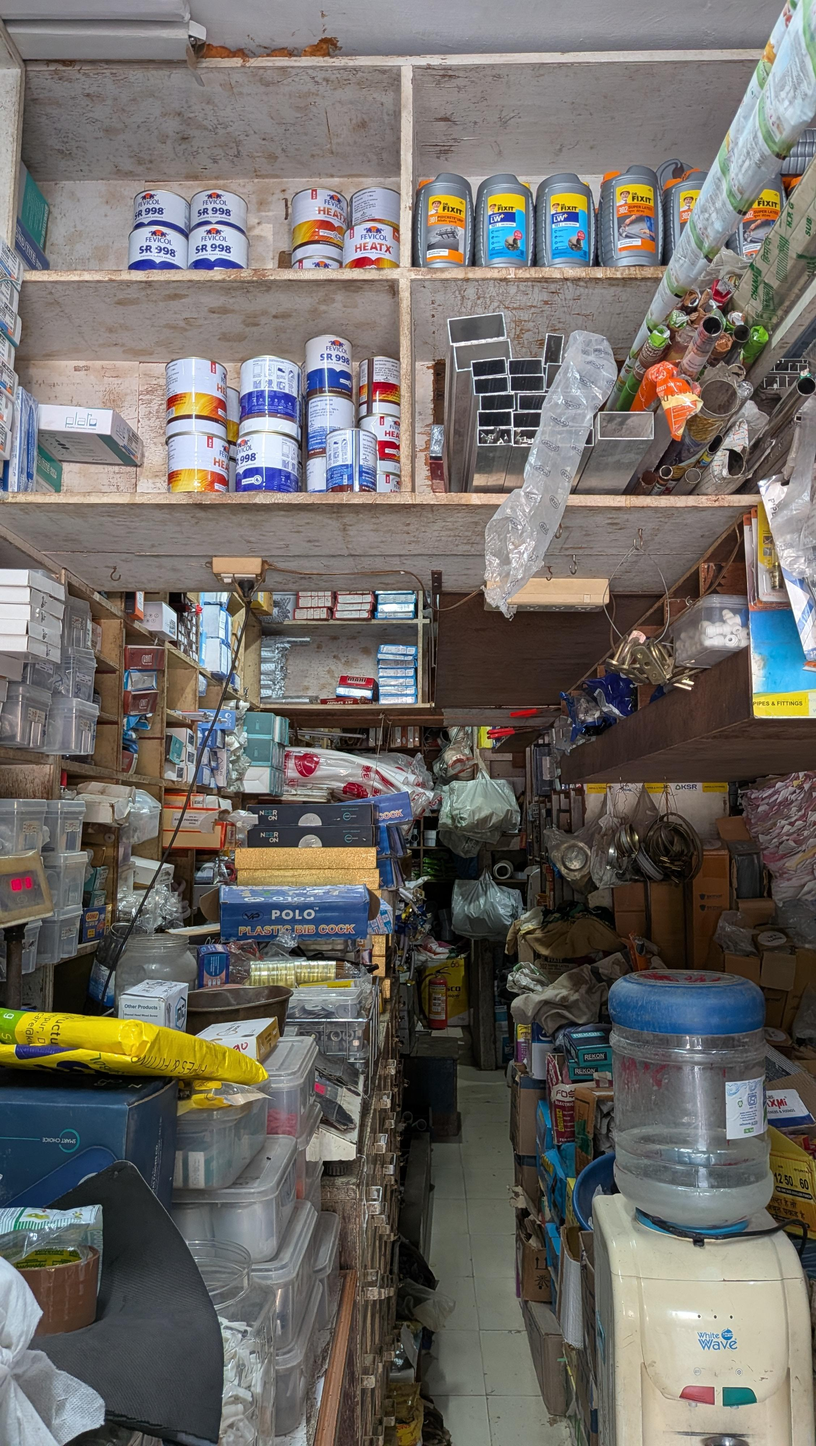Fevicol_HEATX: (165, 355, 228, 444), (291, 185, 348, 264), (167, 433, 228, 494), (344, 219, 400, 269), (357, 356, 400, 420), (349, 185, 399, 230), (360, 411, 400, 463), (293, 255, 341, 269), (377, 472, 400, 493)
